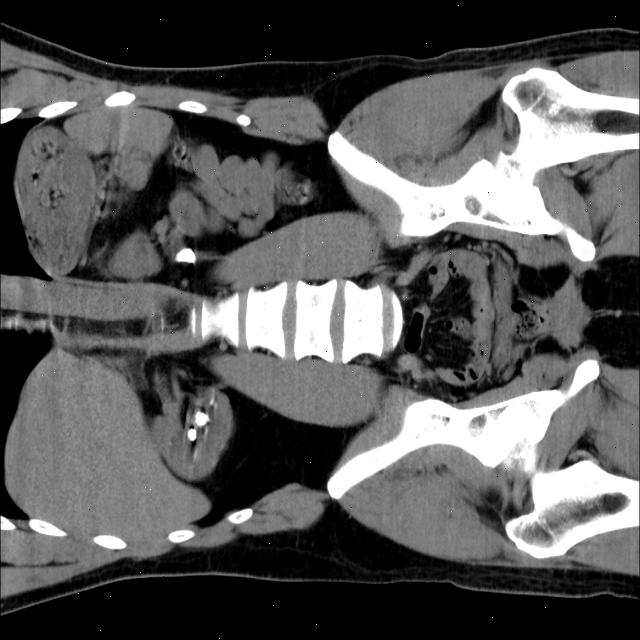kidneystone: (188, 410, 209, 442), (175, 247, 196, 262)
